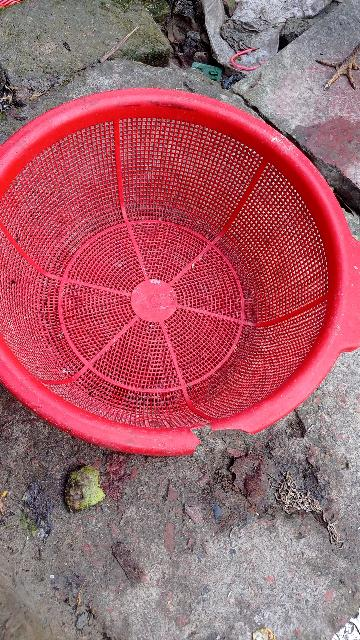hardplastic: (0, 103, 359, 439)
